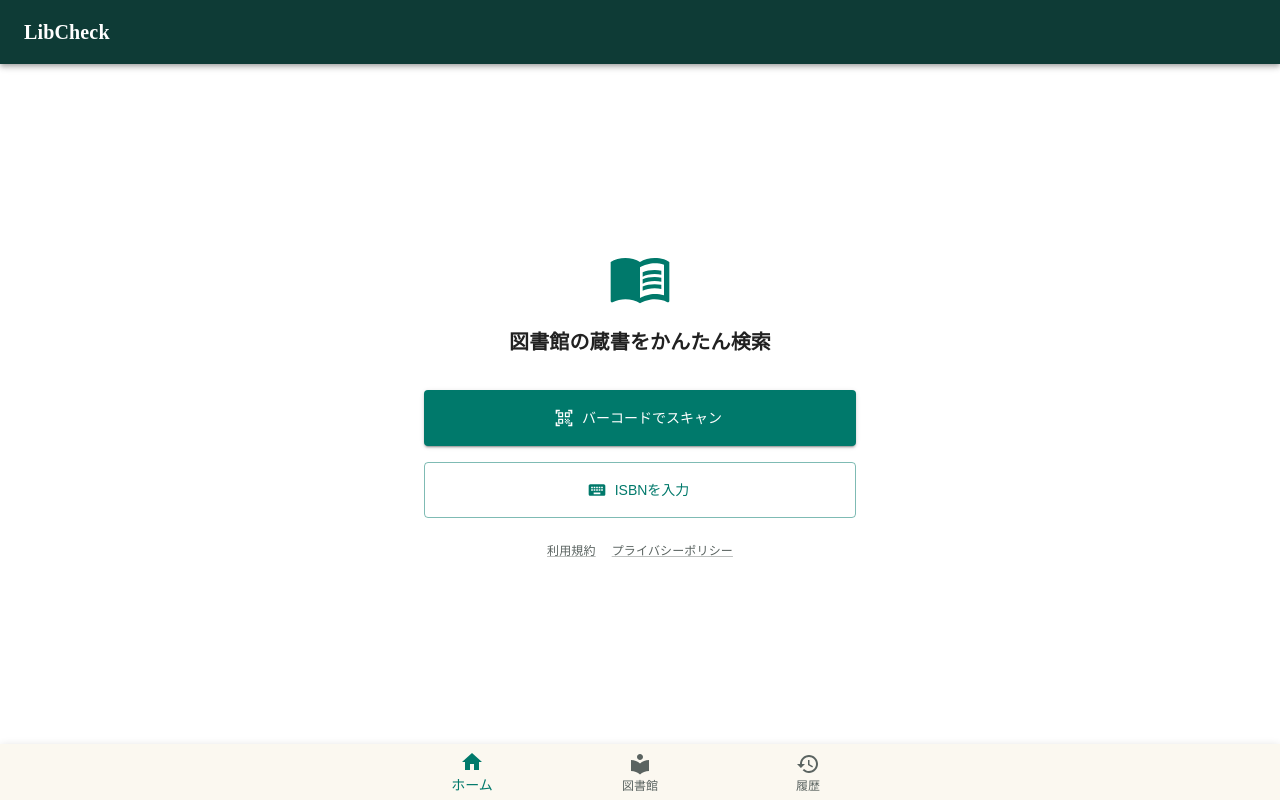
Test: HomePage › ISBN手動入力ボタンで/isbn-inputへ遷移する
This screenshot has width=1280, height=800.
Click the button "ISBNを入力". click: (640, 490)
box: [424,462,856,518]
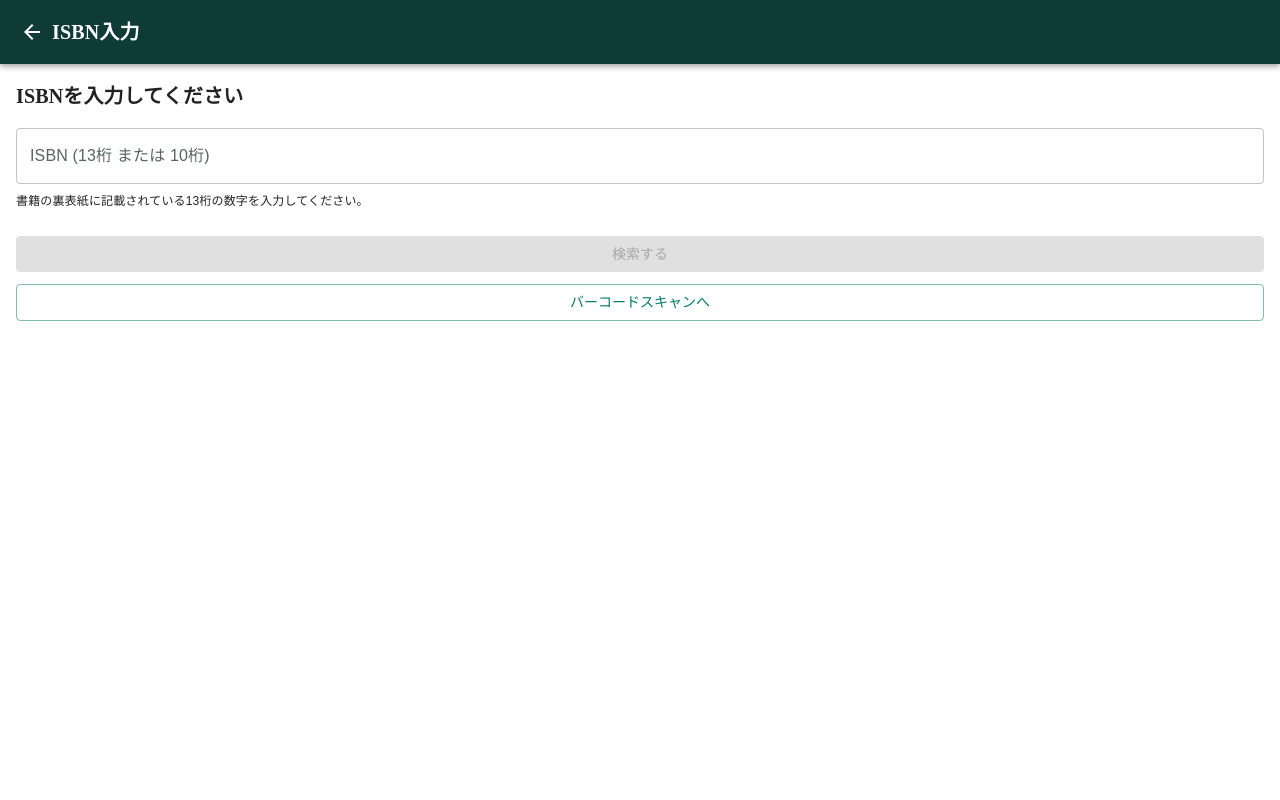
Expected: the text "ISBN入力" is shown, [52,21,140,43]
